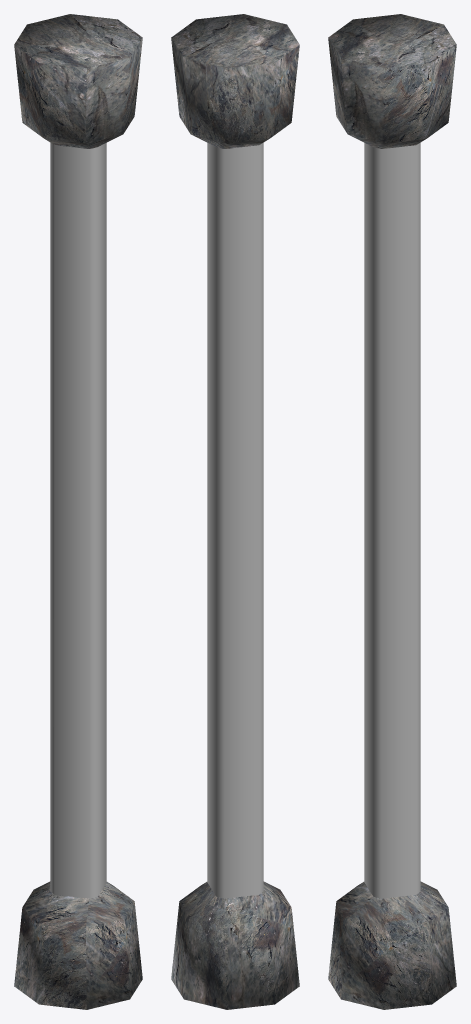
File: Säule_Schmal.fbx
3 views of the same model, side by side, from view 1: azimuth 30°, elevation 25°; view 2: azimuth 150°, elevation 25°; view 3: azimuth 330°, elevation 25° (orthographic).
Parts seen in each view (by area): view 1: Säule_Schmal; view 2: Säule_Schmal; view 3: Säule_Schmal.
Boxes of the visible parts, x1,y1,x2,y2 form: Säule_Schmal: [14, 14, 142, 1009]; Säule_Schmal: [171, 14, 299, 1009]; Säule_Schmal: [328, 14, 456, 1009].
Size of the model in its own units: 69.22 by 600 by 69.22.
